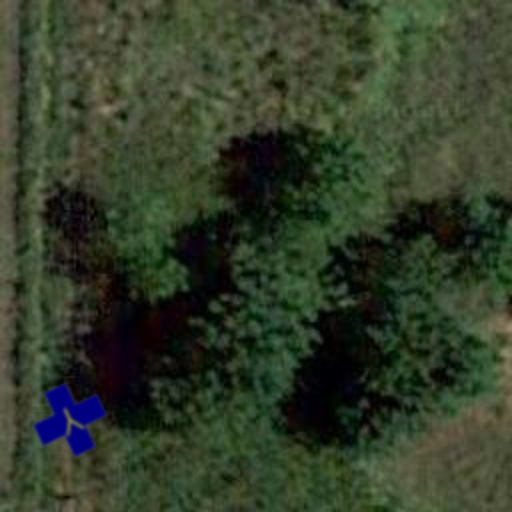cross: (22, 372, 118, 468)
